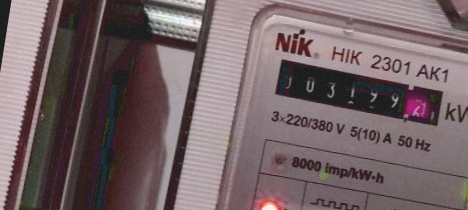0: (278, 68, 294, 91), (301, 72, 316, 93)
1: (345, 79, 358, 99)
3: (323, 78, 337, 99)
6: (410, 101, 422, 118)
9: (365, 83, 379, 104), (386, 88, 400, 109)
screen: (265, 53, 453, 134)
